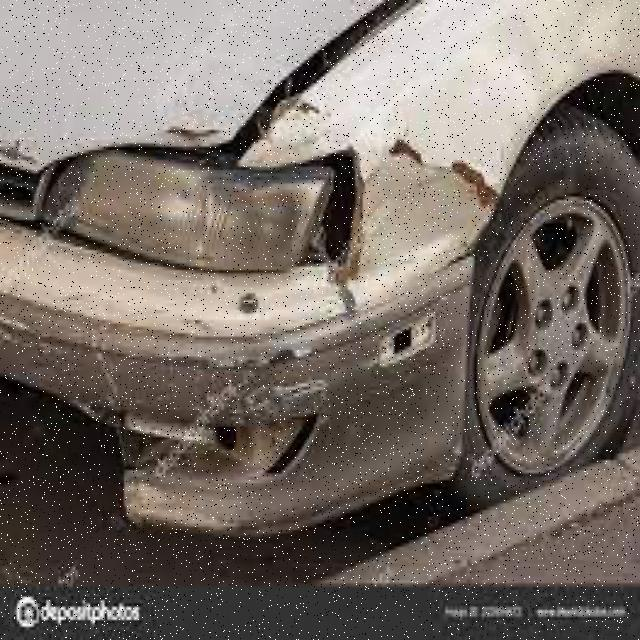bonnet-dent: (0, 0, 263, 206)
fender-dent: (251, 30, 638, 274)
front-bumper-dent: (0, 204, 470, 524)
